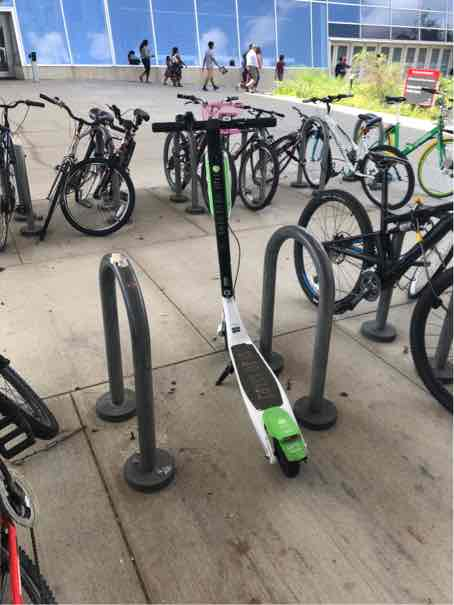scooter: (149, 103, 330, 484)
